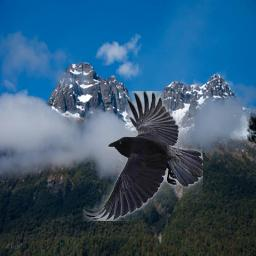Crow: (83, 91, 203, 221)
